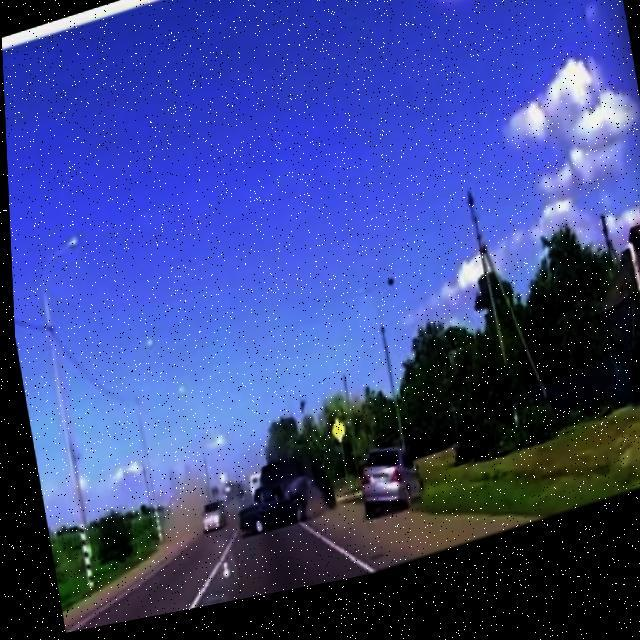Car Accident Detector - v4 Generation1 Exported: (222, 450, 334, 556)
